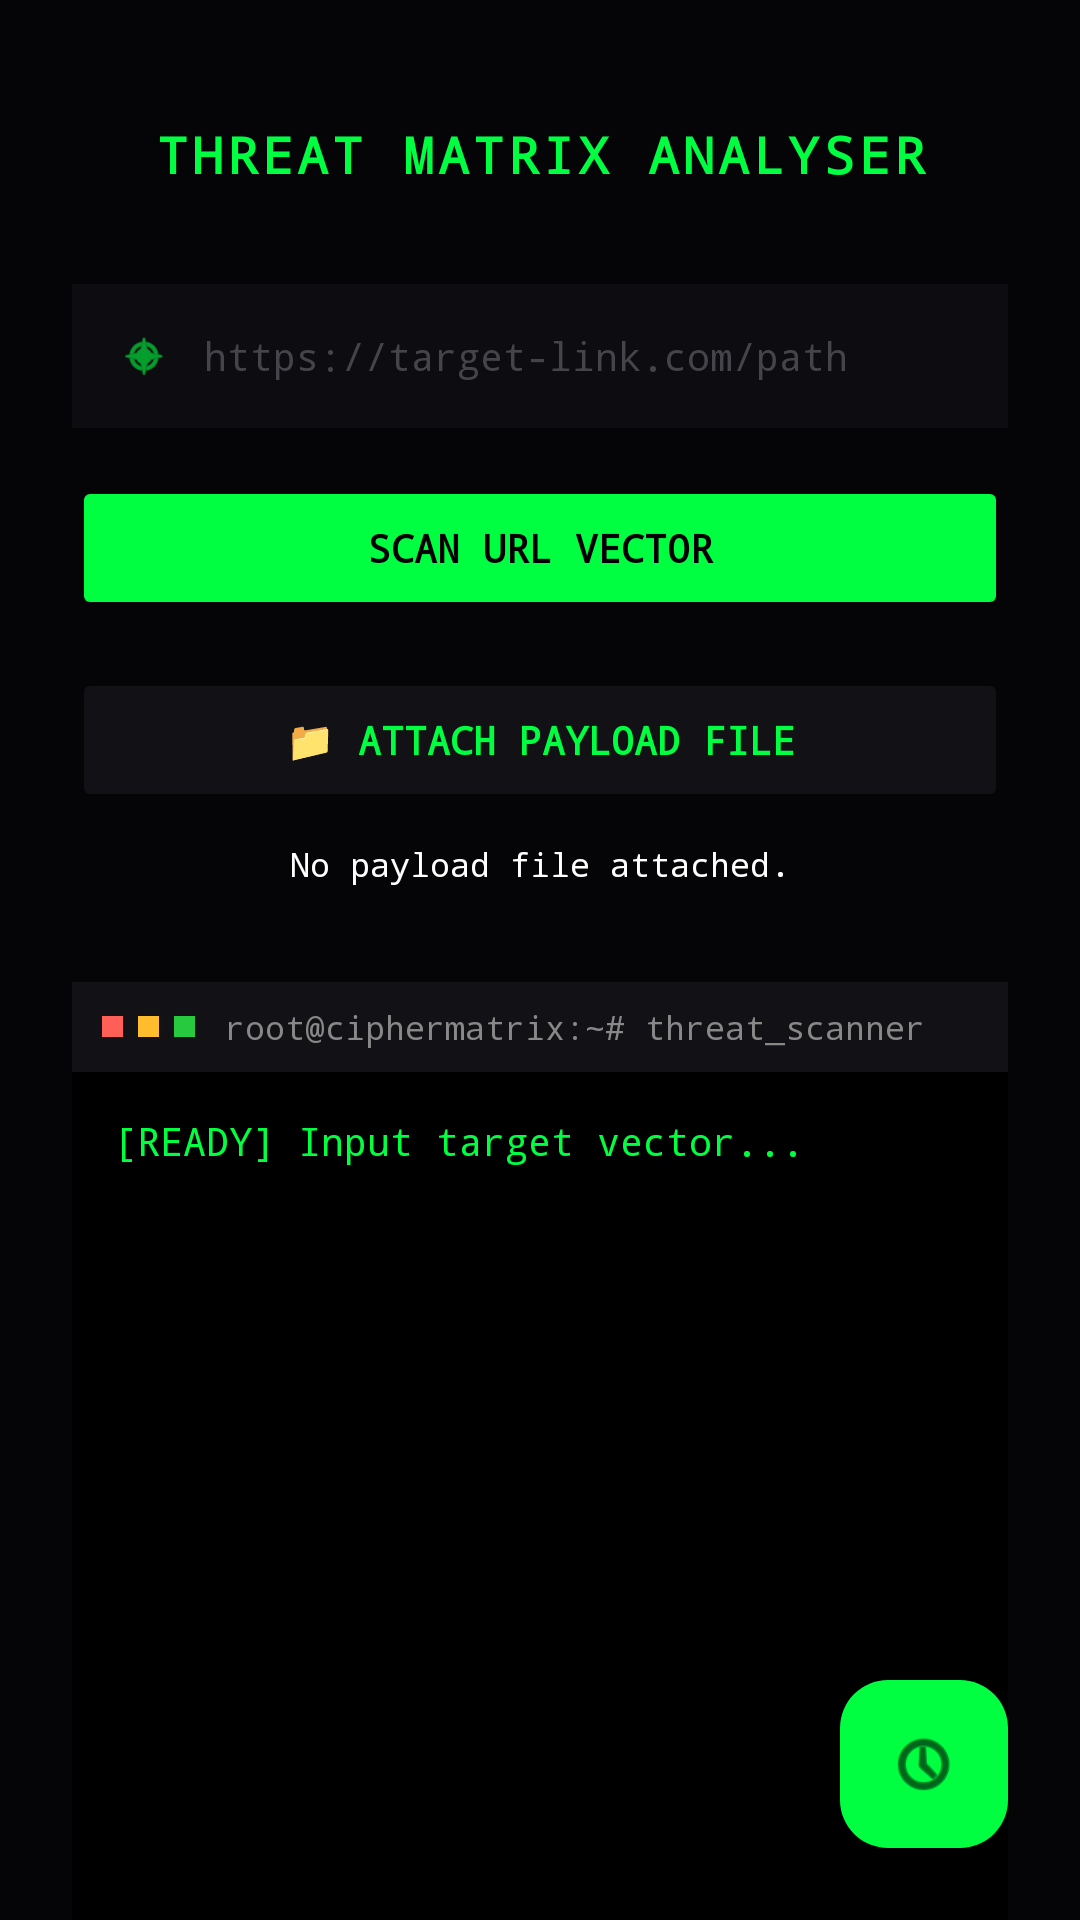

Screen size 1080px×1920px. Icon name, then its center in pixels as [x,y]:
recent history: [924,1764]
